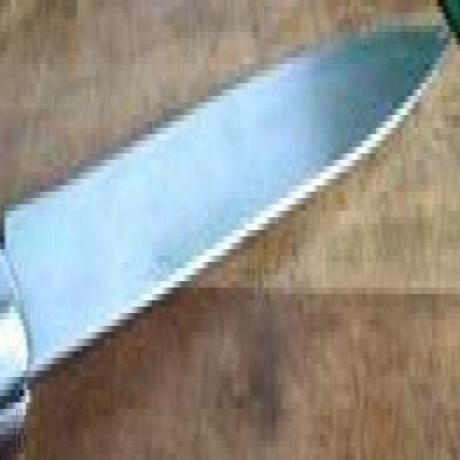weapon: (0, 32, 450, 422)
